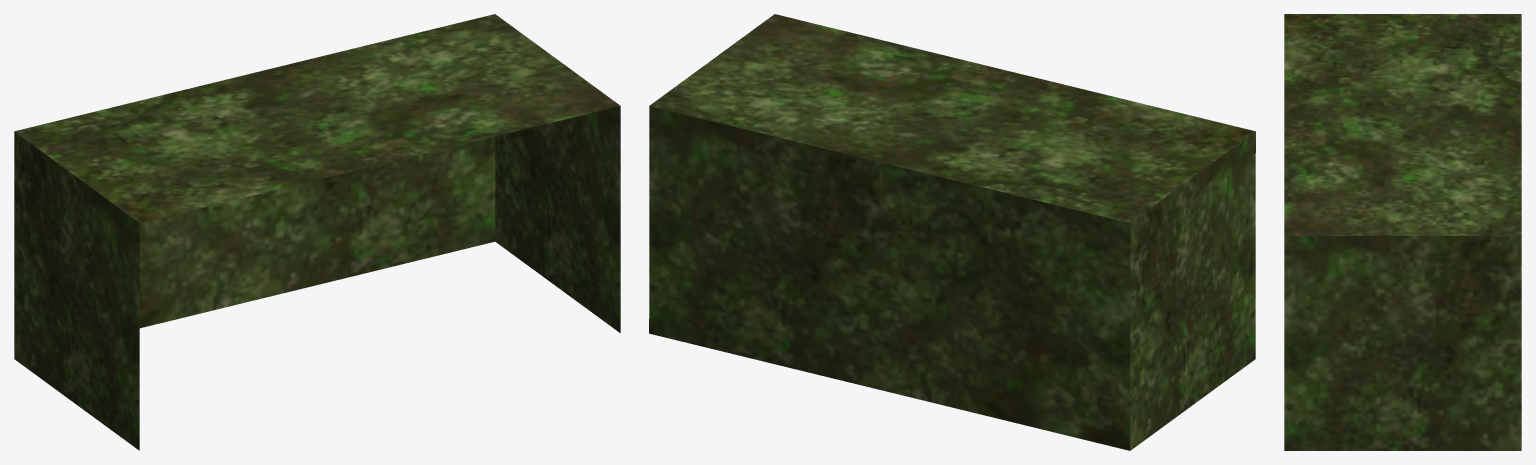
File: OVERHILL_A_01_PLANE134.fbx
3 views of the same model, side by side, from view 1: azimuth 30°, elevation 25°; view 2: azimuth 150°, elevation 25°; view 3: azimuth 270°, elevation 25° (orthographic). The views are drawn at different scales.
Visible parts, largest first — view 1: OVERHILL_A_01_PLANE134; view 2: OVERHILL_A_01_PLANE134; view 3: OVERHILL_A_01_PLANE134.
Part boxes in pixels (x1,y1,x2,y2): OVERHILL_A_01_PLANE134: (14, 14, 620, 450); OVERHILL_A_01_PLANE134: (649, 14, 1255, 450); OVERHILL_A_01_PLANE134: (1284, 14, 1521, 450).
Size of the model in its own units: 31223 by 14121 by 14121.
Materials: 1 (1 with a texture image).
